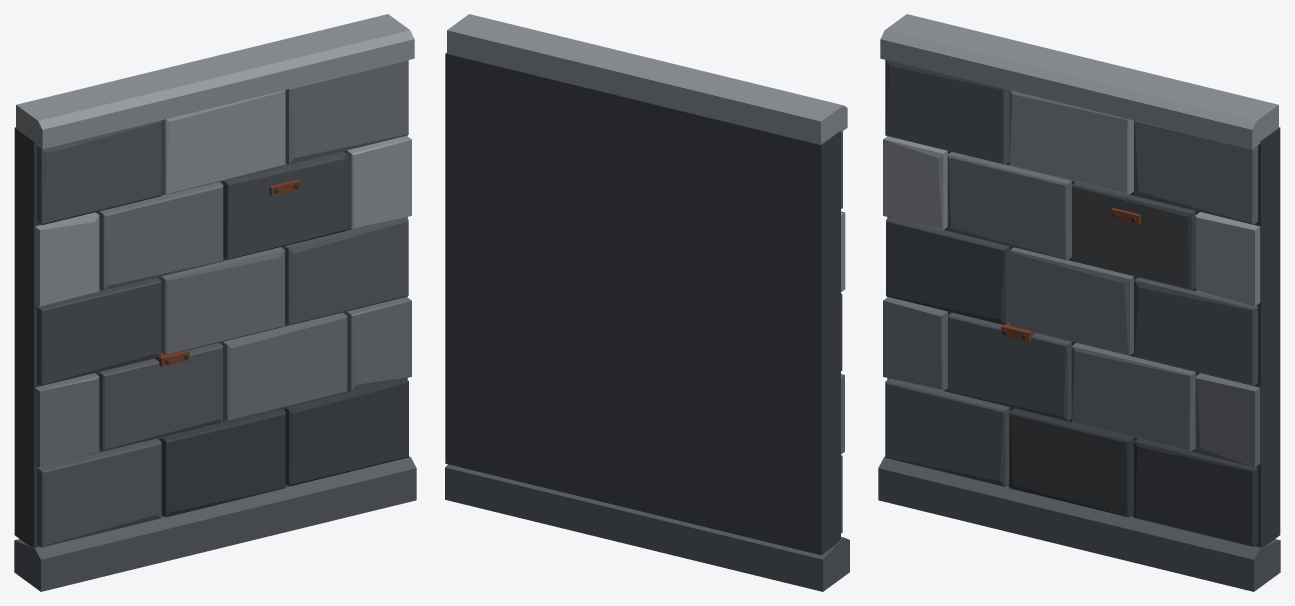
Rendered from mdvl_dungeon_wall_01.glb.
3 renders of one model, left to right at view 1: azimuth 30°, elevation 25°; view 2: azimuth 150°, elevation 25°; view 3: azimuth 330°, elevation 25°, orthographic.
Parts seen in each view (by area): view 1: mdvl_dungeon_wall_01; view 2: mdvl_dungeon_wall_01; view 3: mdvl_dungeon_wall_01.
Boxes of the visible parts, <box> form: mdvl_dungeon_wall_01: <box>14,14,416,591</box>; mdvl_dungeon_wall_01: <box>445,14,849,591</box>; mdvl_dungeon_wall_01: <box>878,14,1280,591</box>.
Bounding box in the file's own units: 2.02 × 2.4 × 0.257.
1 material, 1 textured.
